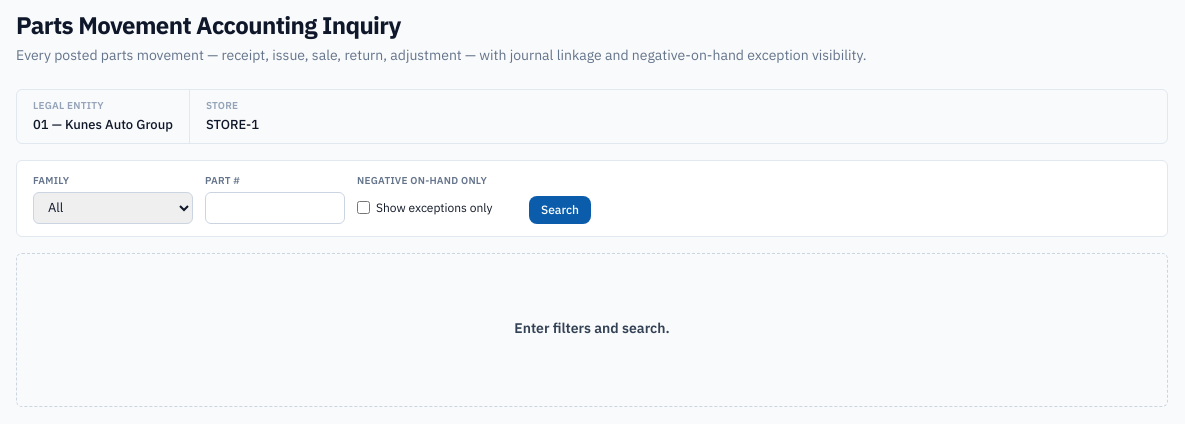
PartsMovements › shows the empty state when a search returns nothing
The image size is (1185, 424).
Step 1. Click the button with test id "parts-movements-search" → (560, 210), box [529, 196, 591, 224]
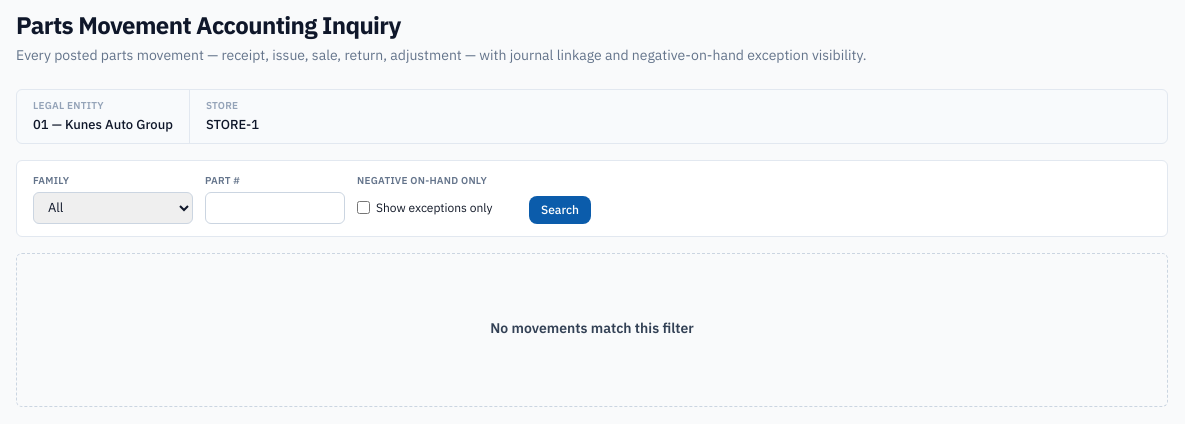
Expected: the element with test id "parts-movements-empty" is shown, [16, 252, 1168, 406]
